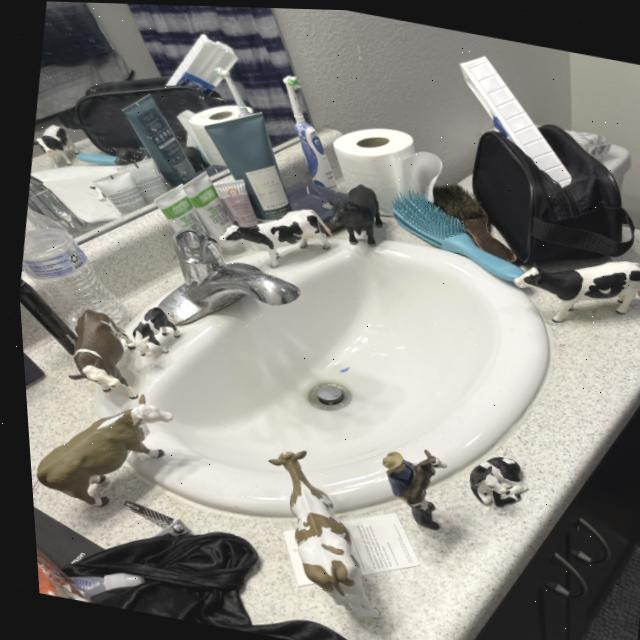cow: (23, 376, 182, 527), (254, 440, 371, 634), (215, 194, 333, 280), (509, 255, 640, 322), (57, 307, 149, 399), (323, 180, 383, 251), (458, 448, 523, 511), (118, 301, 177, 358), (393, 446, 435, 507)
person: (375, 446, 413, 496)
